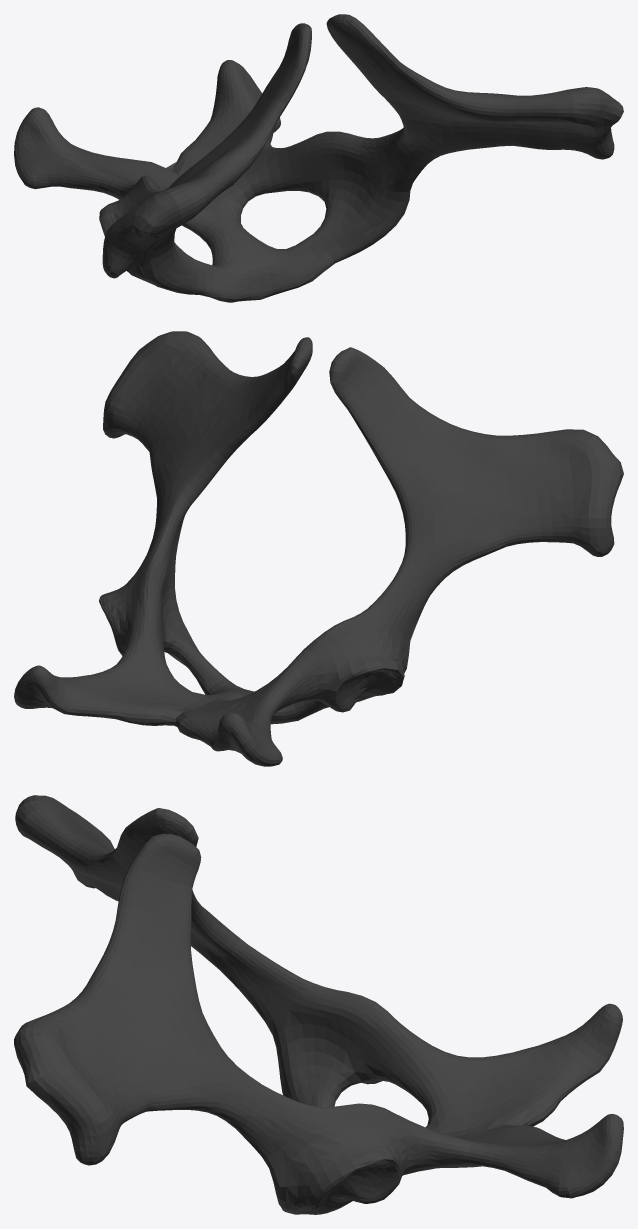
Rendered from Pelvis.glb.
3 renders of one model, top to bottom at view 1: azimuth 30°, elevation 25°; view 2: azimuth 150°, elevation 25°; view 3: azimuth 270°, elevation 25°, orthographic. The views are drawn at different scales.
Parts seen in each view (by area): view 1: Pelvis; view 2: Pelvis; view 3: Pelvis.
Boxes of the visible parts, x1,y1,x2,y2 form: Pelvis: [14, 14, 623, 302]; Pelvis: [14, 331, 623, 766]; Pelvis: [14, 795, 623, 1214].
Bounding box in the file's own units: 0.6883 × 0.4275 × 0.6161.
1 material, 1 textured.
